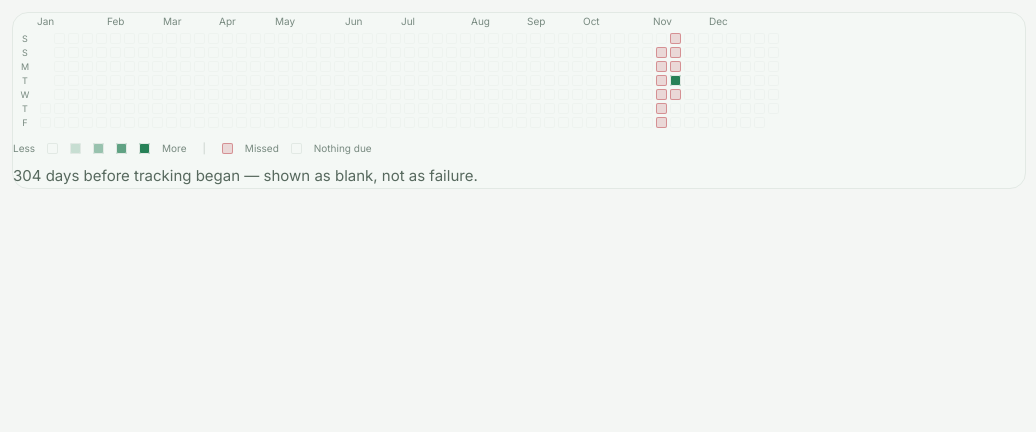
Test: CommitmentMap — compact variant › still lets the dashboard reader open a day
Click the cell named "2026-11-10" at (676, 80), box x1=670 y1=75 x2=681 y2=86
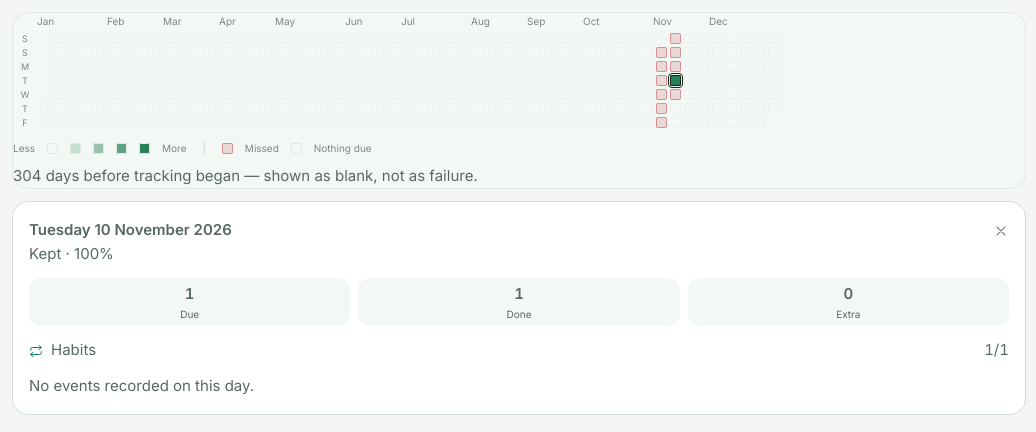
Now the text "Due" is shown, box x1=180 y1=308 x2=199 y2=320
